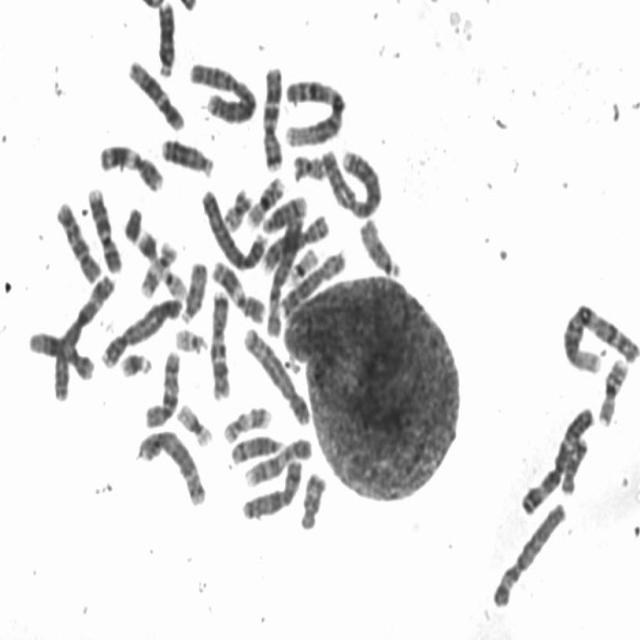A1: (558, 298, 639, 376), (282, 75, 347, 149)
A2: (318, 144, 383, 218), (186, 58, 257, 125)
A3: (517, 402, 596, 517), (50, 270, 116, 403)
B4: (98, 293, 184, 371), (198, 186, 267, 272)
B5: (242, 323, 311, 428), (135, 426, 208, 508)
C10: (53, 197, 102, 284), (142, 346, 182, 430)
C11: (208, 256, 267, 326), (96, 140, 165, 194)
C12: (124, 57, 185, 134), (26, 327, 94, 382)
C6: (488, 498, 566, 610), (265, 212, 304, 338)
C7: (260, 59, 284, 175), (207, 291, 229, 402)
C8: (277, 246, 349, 318), (259, 212, 330, 274)
C9: (241, 433, 312, 489), (85, 184, 123, 274)
D13: (159, 134, 215, 180), (154, 0, 176, 78)
D14: (259, 192, 308, 235), (228, 430, 285, 465)
D15: (356, 216, 402, 278), (178, 258, 209, 326)
E16: (594, 355, 629, 428), (243, 174, 286, 229)
E17: (138, 240, 178, 299), (221, 402, 273, 445)
E18: (558, 434, 590, 495), (297, 468, 327, 530)
F19: (174, 401, 214, 448), (286, 245, 320, 285)
F20: (220, 188, 253, 232), (289, 151, 327, 183)
G21: (118, 348, 153, 378), (134, 226, 160, 264)
G22: (173, 325, 209, 356), (158, 265, 187, 299)
X: (238, 456, 304, 522)
Y: (120, 204, 144, 244)
